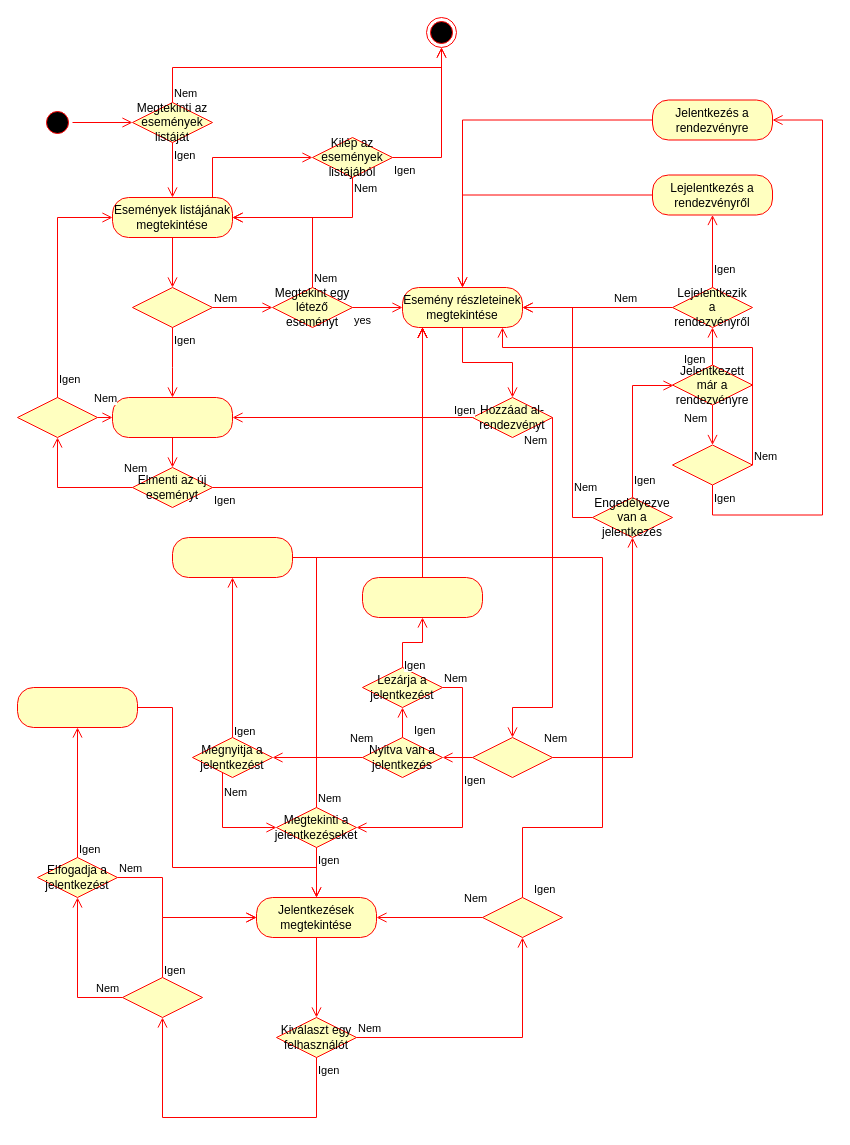
The diagram is 850 pixels wide and 1145 high, and some of its shapes have lost their labels. Each missing label, with the centre of its shape:
A kiválasztott el van már fogadva: the point at 162,997
Befejezi a jelentkezések megtekintését: the point at 522,917
Befejezi a szerkesztést: the point at 57,417
Jelentkezik a rendezvényre: the point at 712,464
Jelentkezés elfogadása: the point at 77,707
Jelentkezés lezárása: the point at 422,597
Jelentkezés megnyitása: the point at 232,557
Létrehoz új eseményt: the point at 172,307
Rendező-e: the point at 512,757
Új esemény létrehozása: the point at 172,417
